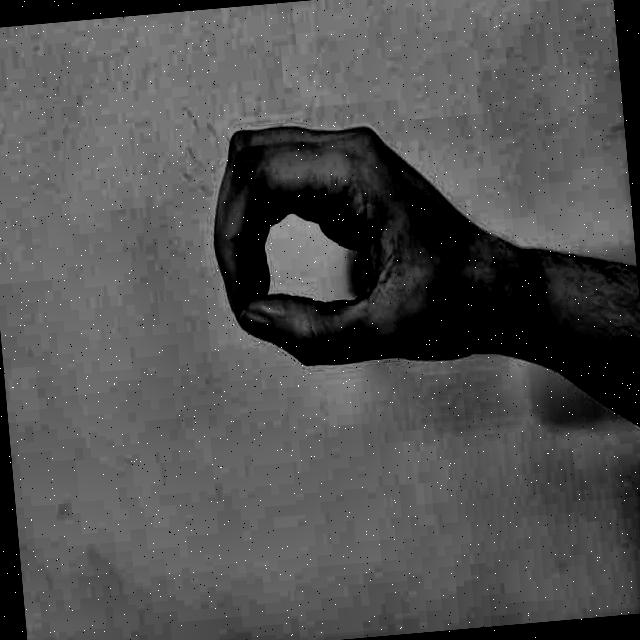O: (180, 87, 492, 416)
